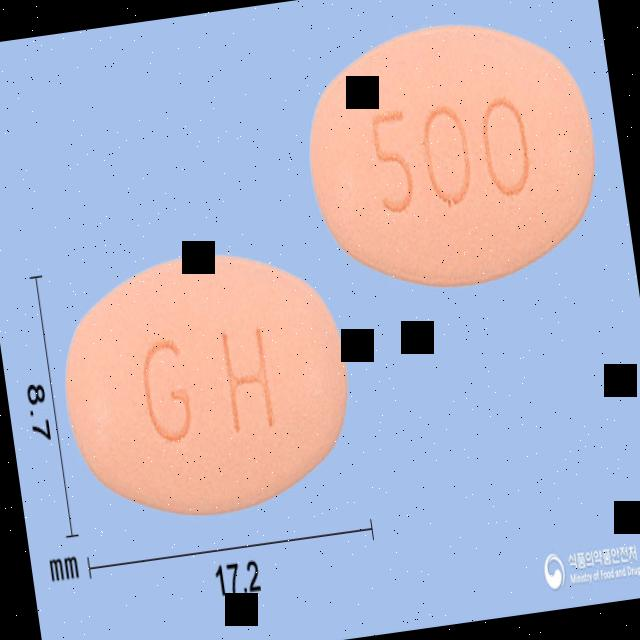Levona: (293, 3, 612, 303), (51, 236, 366, 534)
